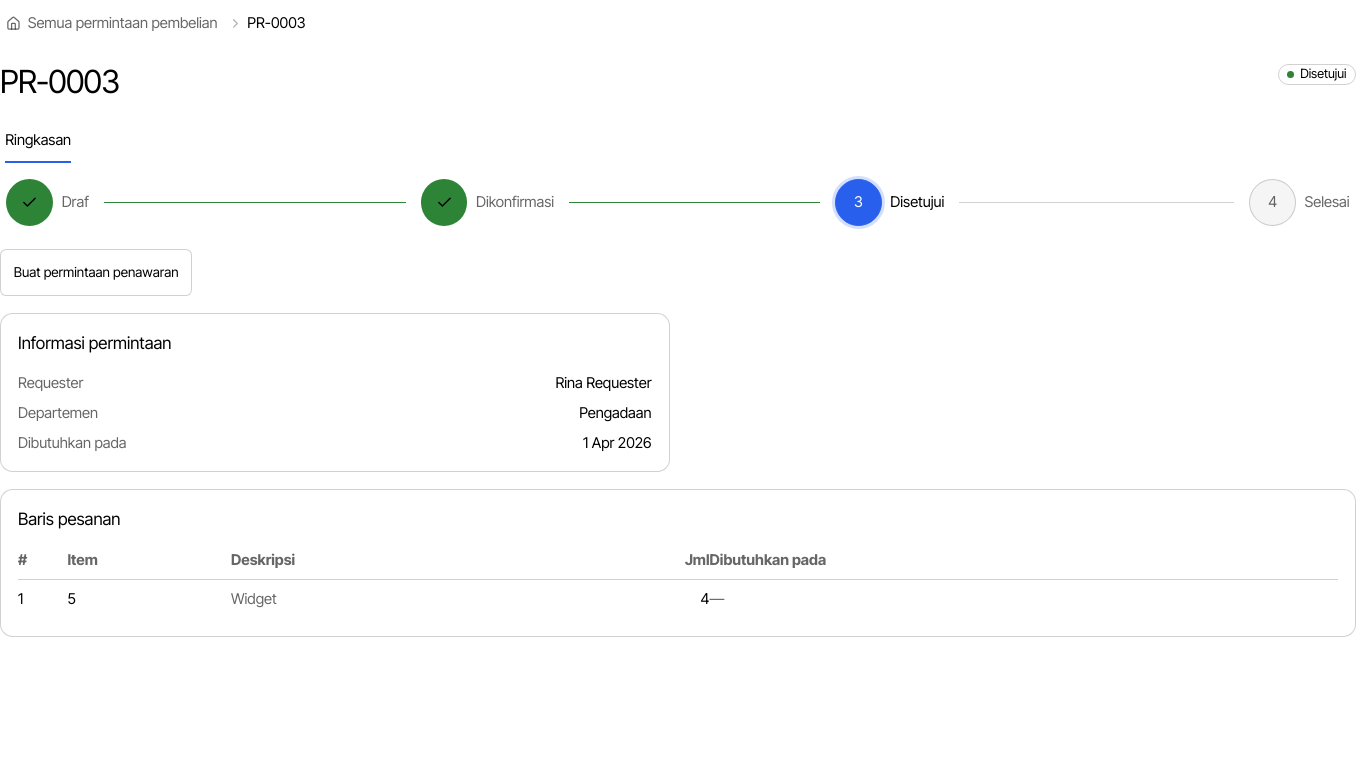
Test: PurchaseRequestDetail › opens the create QuoteRequest dialog from the action button
Click the button "Buat permintaan penawaran" at (96, 273), box [0,249,192,296]
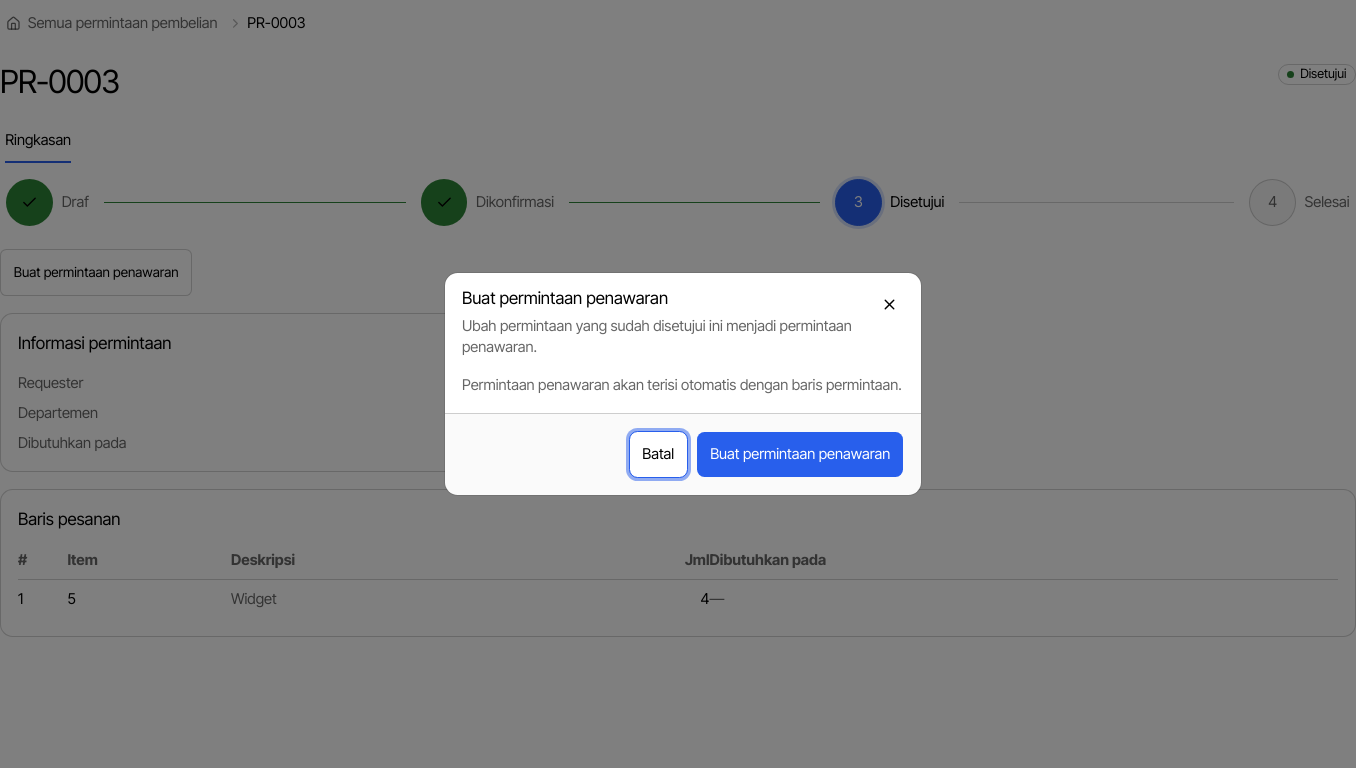
Expected: the text "Ubah permintaan yang sudah disetujui ini menjadi permintaan penawaran." is shown, [462,316,904,358]
